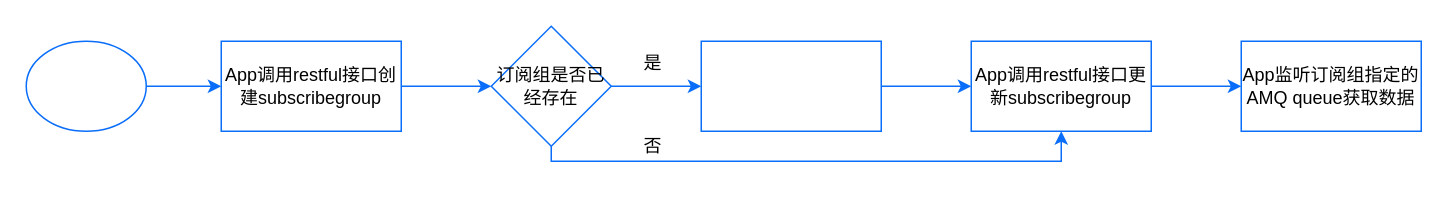
The diagram is 1448 pixels wide and 200 high, and some of its shapes have lost their labels. The shapes that lost their labels are listed below. From the top down, each one's centre as x and y in pixels, then its label:
point 85,85: 开始
point 790,85: App调用resrful接口获取订阅组详情
